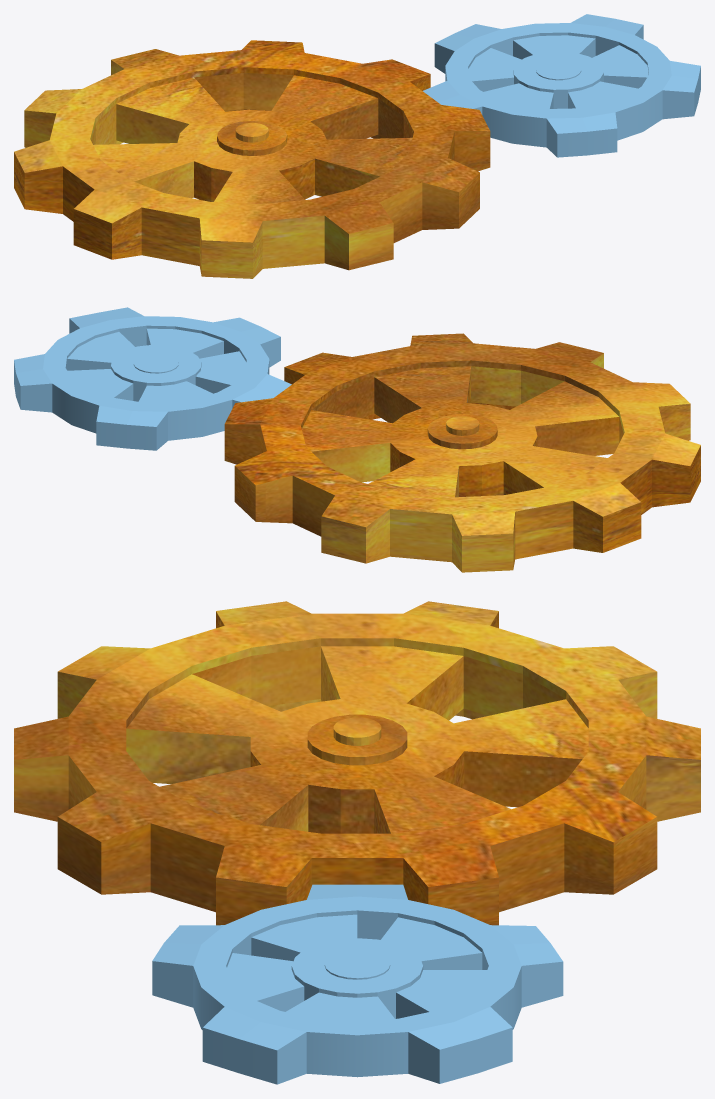
Rendered from Rattaat.FBX.
3 renders of one model, top to bottom at view 1: azimuth 30°, elevation 25°; view 2: azimuth 150°, elevation 25°; view 3: azimuth 270°, elevation 25°, orthographic. The views are drawn at different scales.
Visible parts, largest first — view 1: Cylinder005, Cylinder004; view 2: Cylinder005, Cylinder004; view 3: Cylinder005, Cylinder004.
Boxes of the visible parts, x1,y1,x2,y2 form: Cylinder005: (14,40,490,278); Cylinder004: (423,14,700,157); Cylinder005: (224,333,700,572); Cylinder004: (14,307,291,450); Cylinder005: (14,601,700,925); Cylinder004: (152,884,563,1084).
Size of the model in its own units: 229 by 20.74 by 151.
